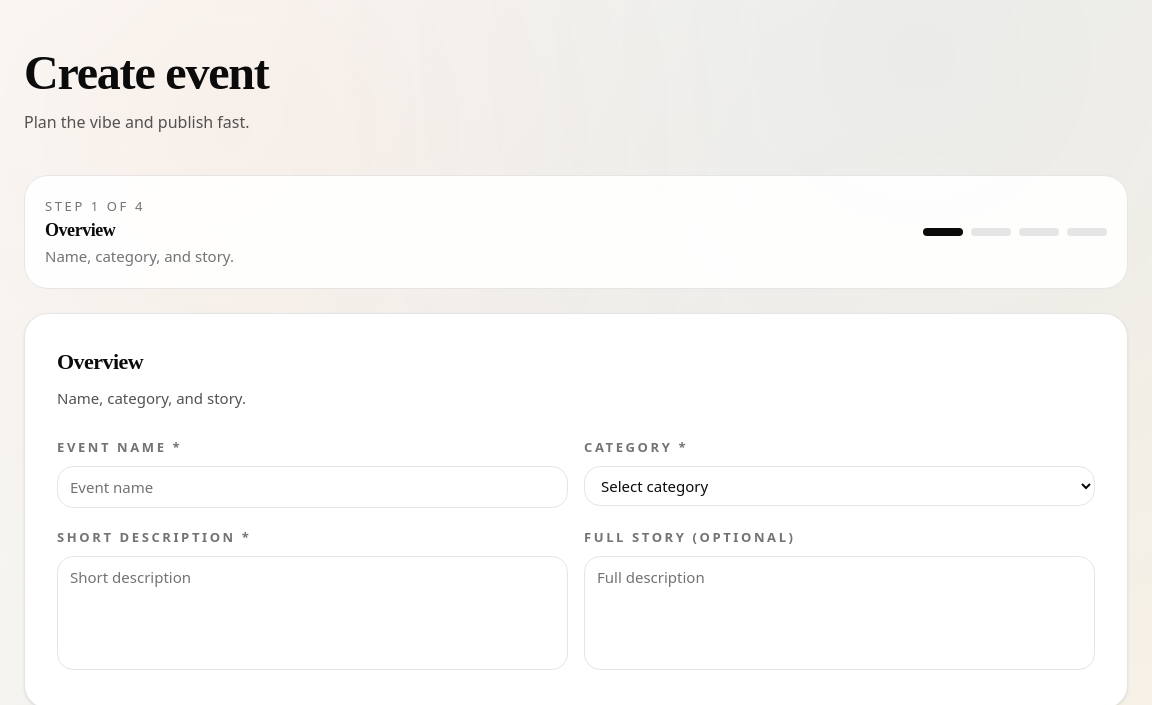
Test case: map components through the real next/dynamic loader › CreateEventPage mounts the venue picker on the venue step
Type "T" into the field with placeholder "Event name" at (312, 487), box [57, 466, 568, 508]
Select "Art" in the dropdown at (840, 486), box [584, 466, 1095, 506]
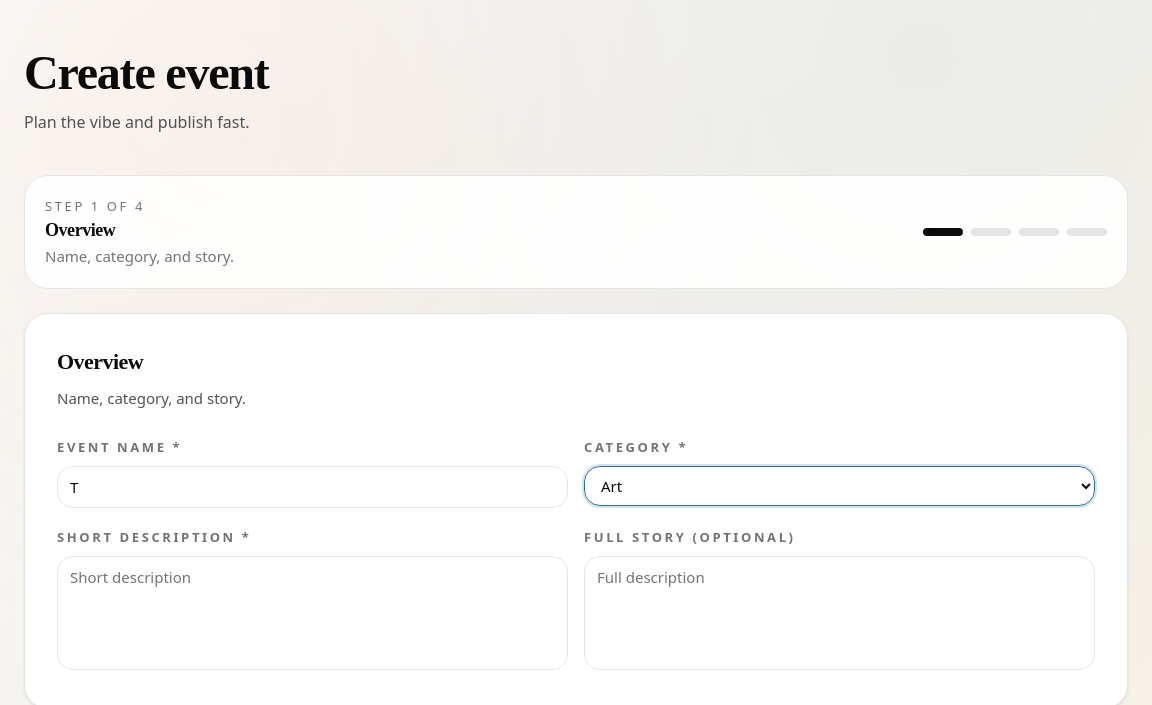
Type "s" into the text box with placeholder "Short description" at (312, 613), box [57, 556, 568, 670]
(page scrolled)
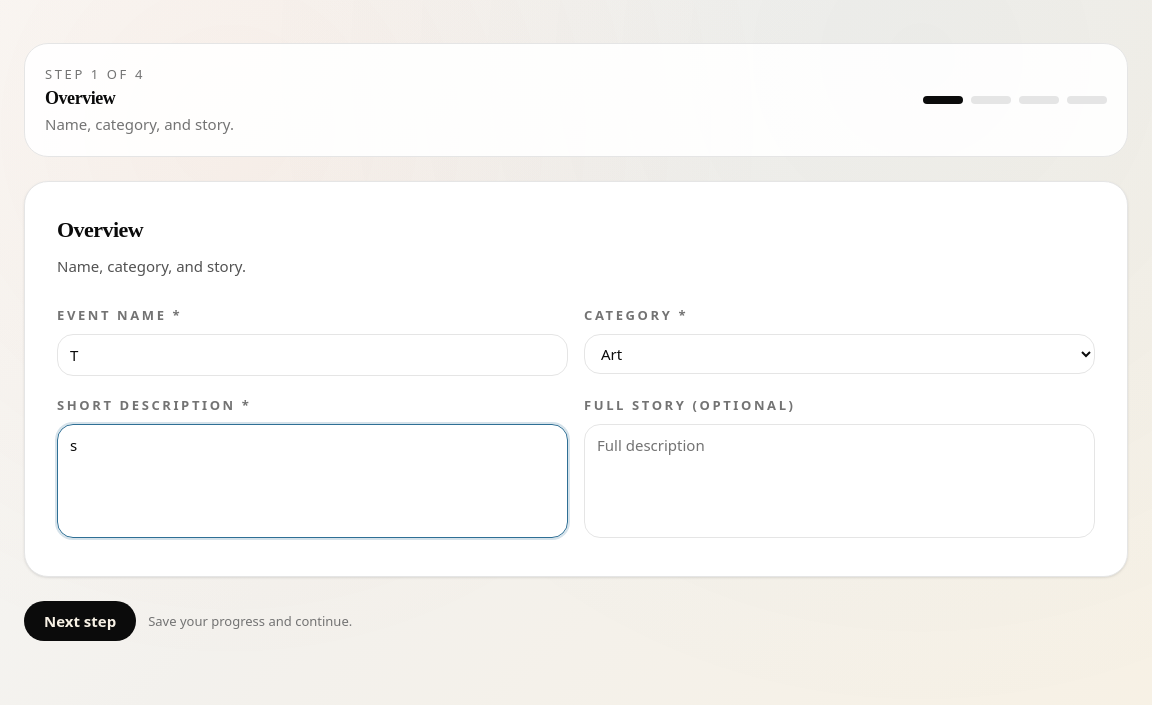
Click the button "Next step" at (80, 621), box [24, 601, 136, 641]
(page scrolled)
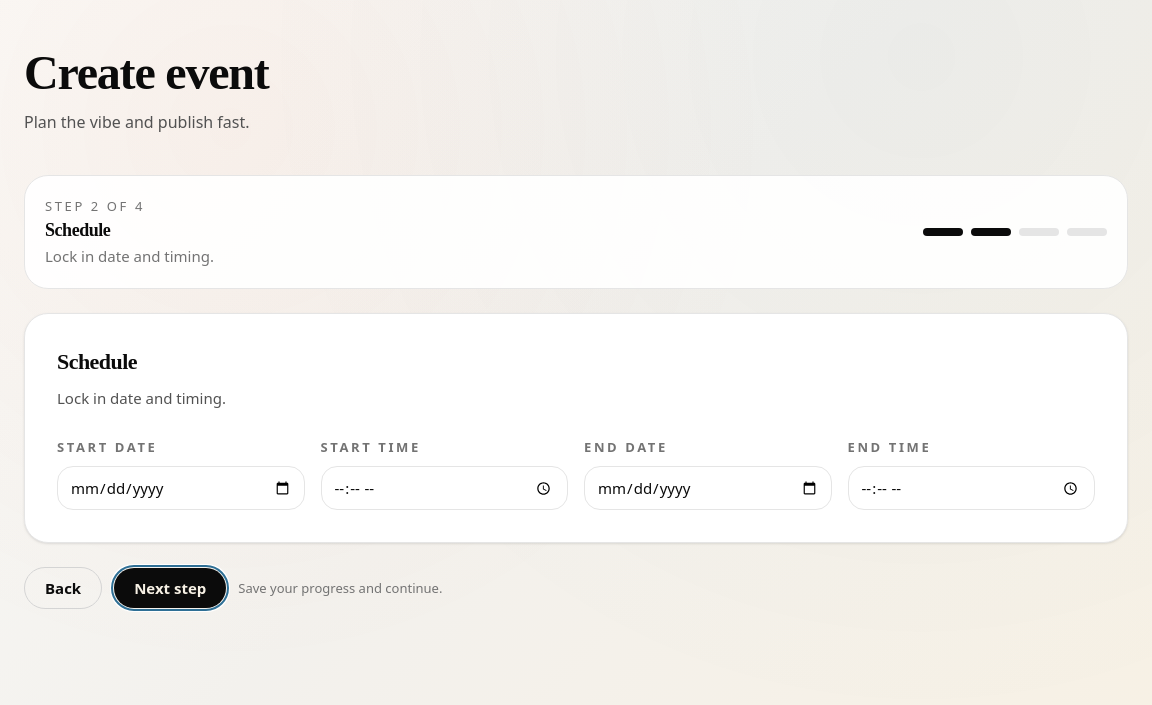
Type "2026-12-01" into the date field named "eventDate" below "Start date" at (181, 488), box [57, 466, 304, 510]
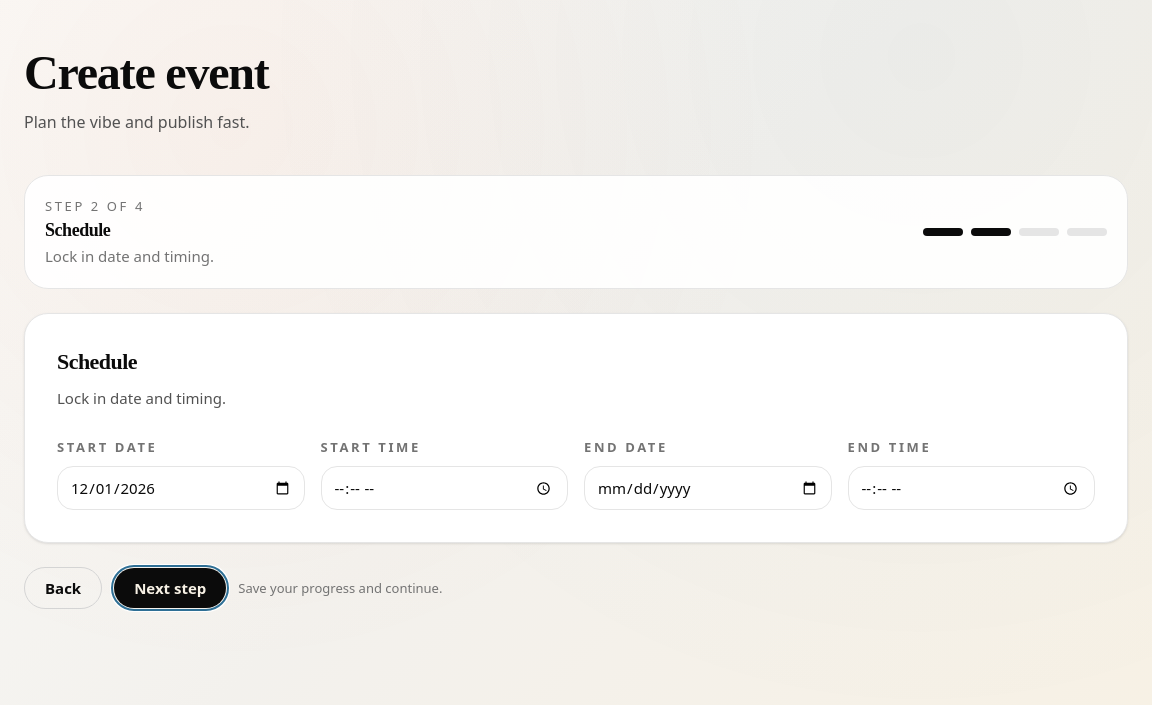
Type "07:30" into the time field named "startTime" below "Start time" at (444, 488), box [320, 466, 568, 510]
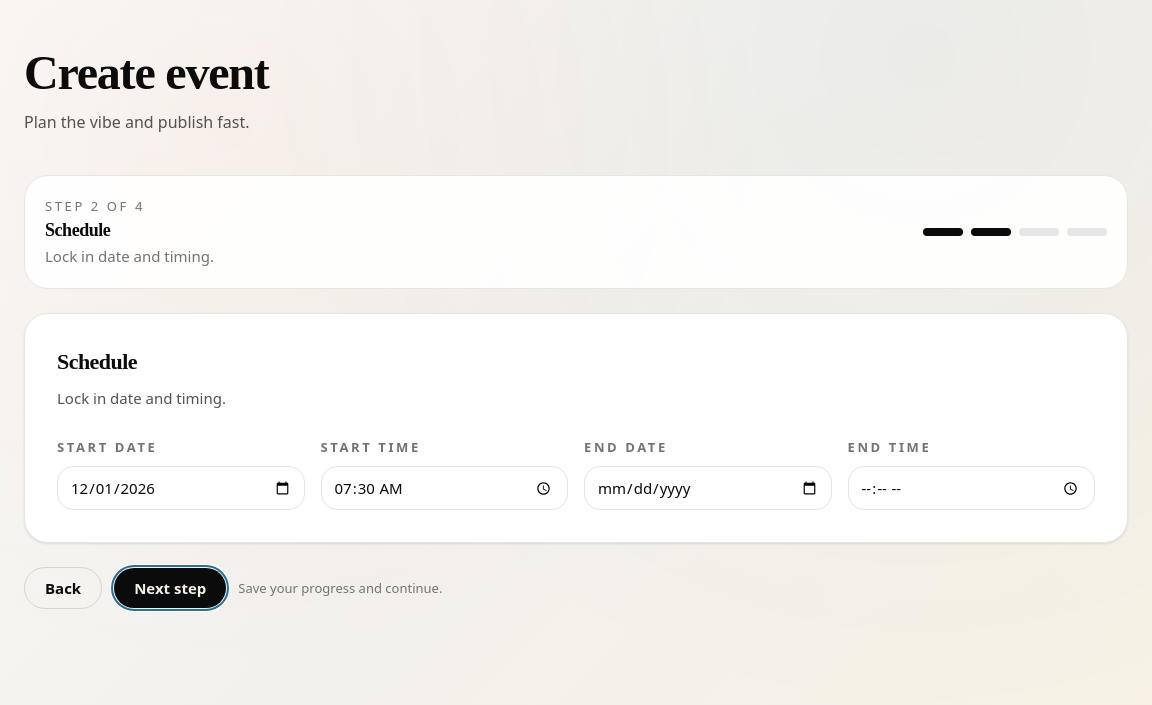
Click the button "Next step" at (170, 588), box [114, 568, 226, 608]
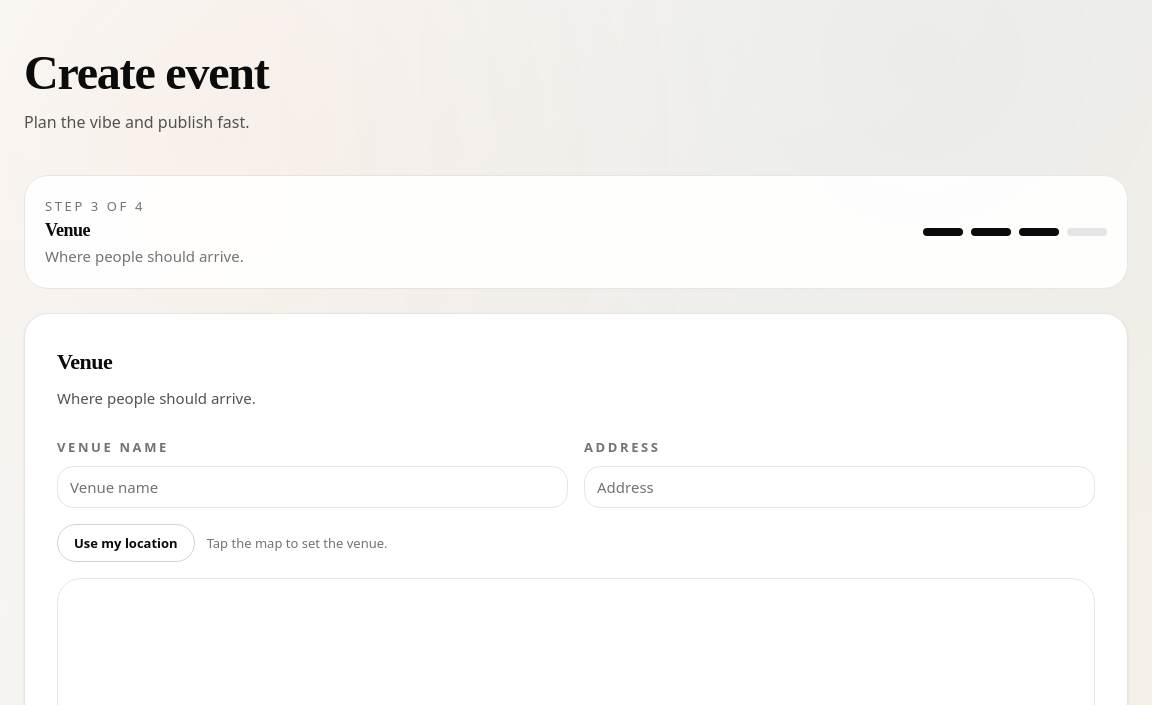
Expected: the text "Step 3 of 4" is shown, [45, 197, 145, 215]
